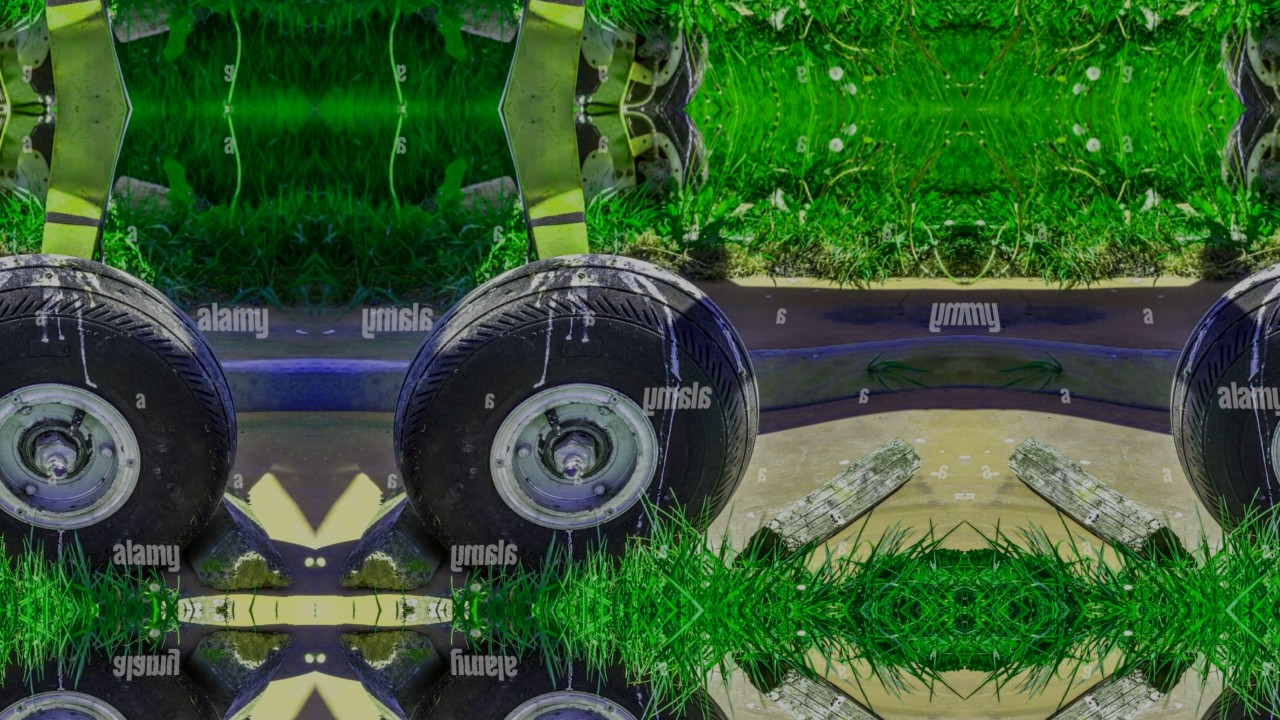chock: (737, 421, 936, 570), (994, 421, 1193, 570), (176, 474, 299, 597), (331, 474, 454, 597), (737, 651, 936, 720), (994, 651, 1193, 720), (176, 624, 299, 720), (331, 624, 454, 720)
wheel: (374, 238, 796, 584), (0, 238, 256, 584), (1134, 238, 1280, 584), (374, 637, 796, 720), (0, 637, 256, 720)
